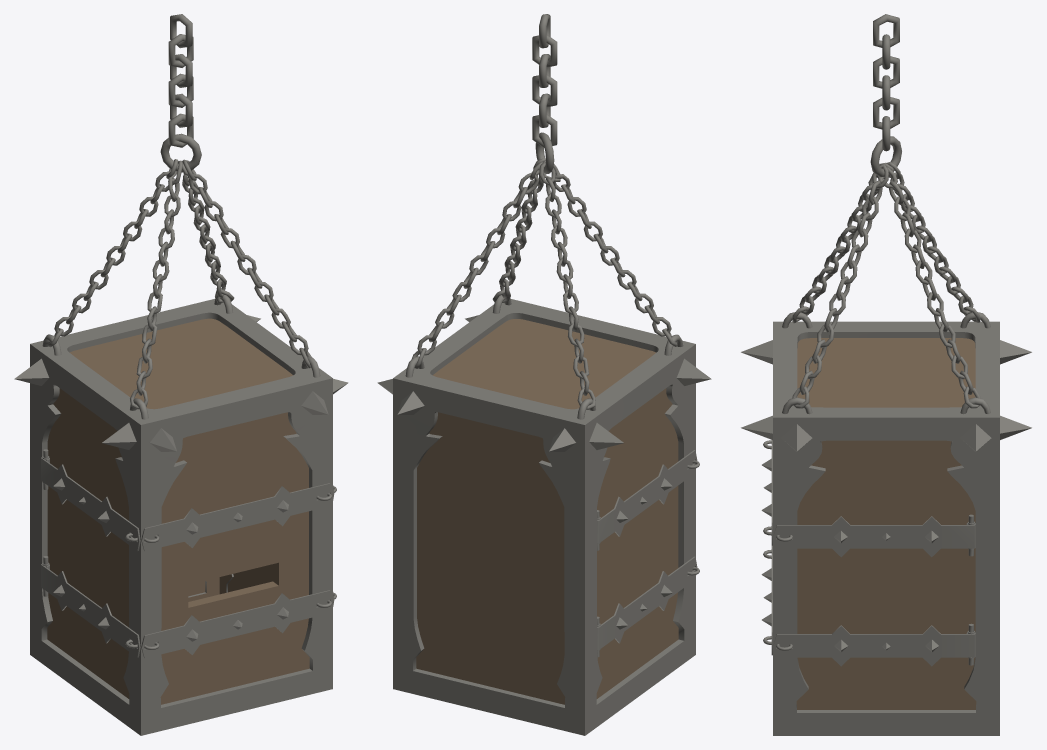
File: megacage.fbx
The picture shows the model from 3 angles, left to right: view 1: azimuth 30°, elevation 25°; view 2: azimuth 150°, elevation 25°; view 3: azimuth 270°, elevation 25°; orthographic projection. The views are drawn at different scales.
Parts seen in each view (by area): view 1: wood_low, megacage_frame, megacage_planes, chains, chain_up, megacage_spikes, torus_low, chain_circle; view 2: wood_low, megacage_frame, chains, megacage_planes, chain_up, megacage_spikes, torus_low; view 3: wood_low, megacage_frame, megacage_planes, chains, megacage_spikes, chain_up, torus_low, chain_circle.
Boxes of the visible parts, x1=… form: wood_low: x1=47, y1=318, x2=309, y2=704; megacage_frame: x1=30, y1=299, x2=332, y2=735; megacage_planes: x1=41, y1=449, x2=336, y2=658; chains: x1=48, y1=159, x2=311, y2=409; chain_up: x1=168, y1=14, x2=193, y2=147; megacage_spikes: x1=14, y1=315, x2=348, y2=451; torus_low: x1=42, y1=295, x2=320, y2=419; chain_circle: x1=160, y1=133, x2=201, y2=172; wood_low: x1=416, y1=319, x2=678, y2=704; megacage_frame: x1=393, y1=299, x2=695, y2=735; chains: x1=412, y1=158, x2=677, y2=409; megacage_planes: x1=597, y1=450, x2=699, y2=657; chain_up: x1=532, y1=14, x2=557, y2=147; megacage_spikes: x1=377, y1=315, x2=711, y2=451; torus_low: x1=405, y1=295, x2=683, y2=419; wood_low: x1=796, y1=338, x2=976, y2=709; megacage_frame: x1=773, y1=321, x2=999, y2=735; megacage_planes: x1=761, y1=440, x2=975, y2=666; chains: x1=792, y1=161, x2=980, y2=408; megacage_spikes: x1=741, y1=340, x2=1031, y2=451; chain_up: x1=873, y1=14, x2=899, y2=151; torus_low: x1=782, y1=312, x2=990, y2=414; chain_circle: x1=870, y1=136, x2=901, y2=177.
Size of the model in its own units: 1.83 by 4.65 by 1.83.
